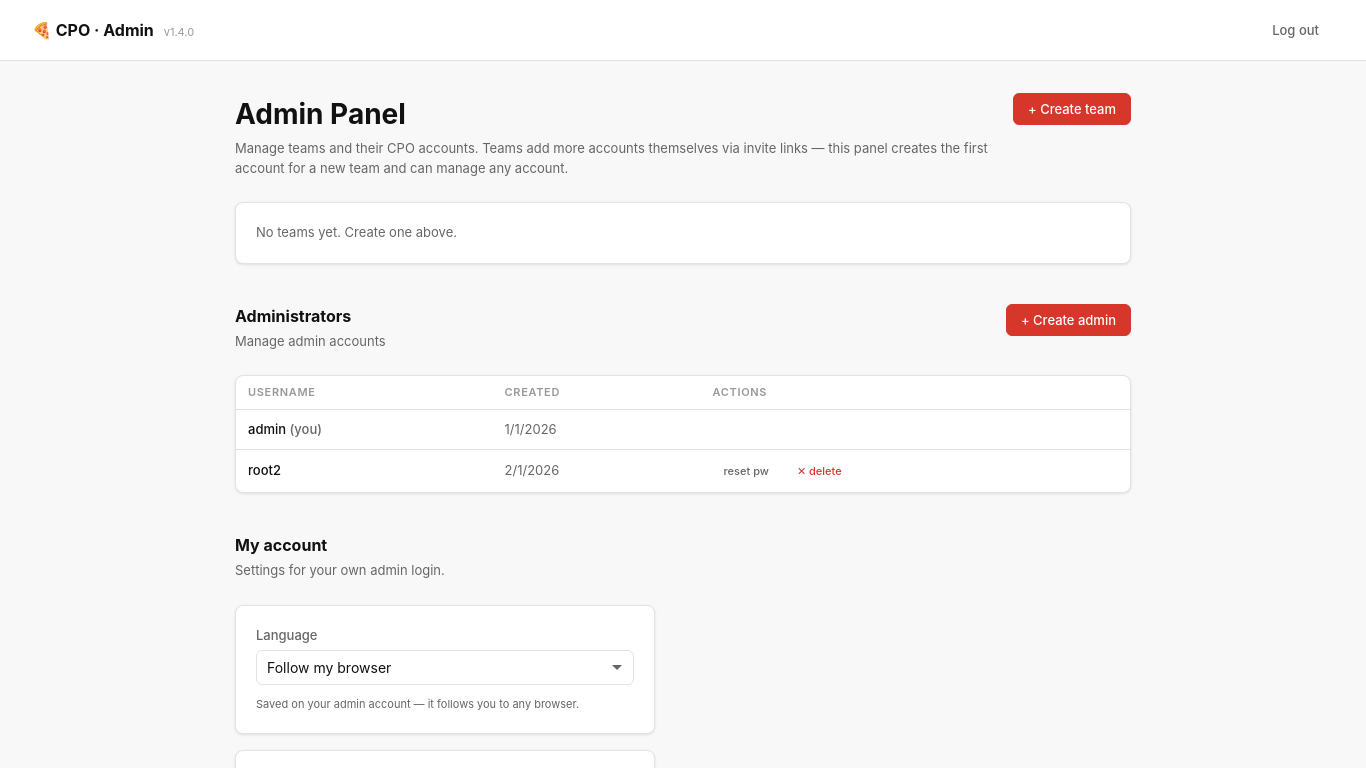
it: AdminPanel › creating a team › shows create form when "+ Create team" button is clicked
Click the button "+ Create team" at (1072,109), box [1013, 93, 1131, 125]
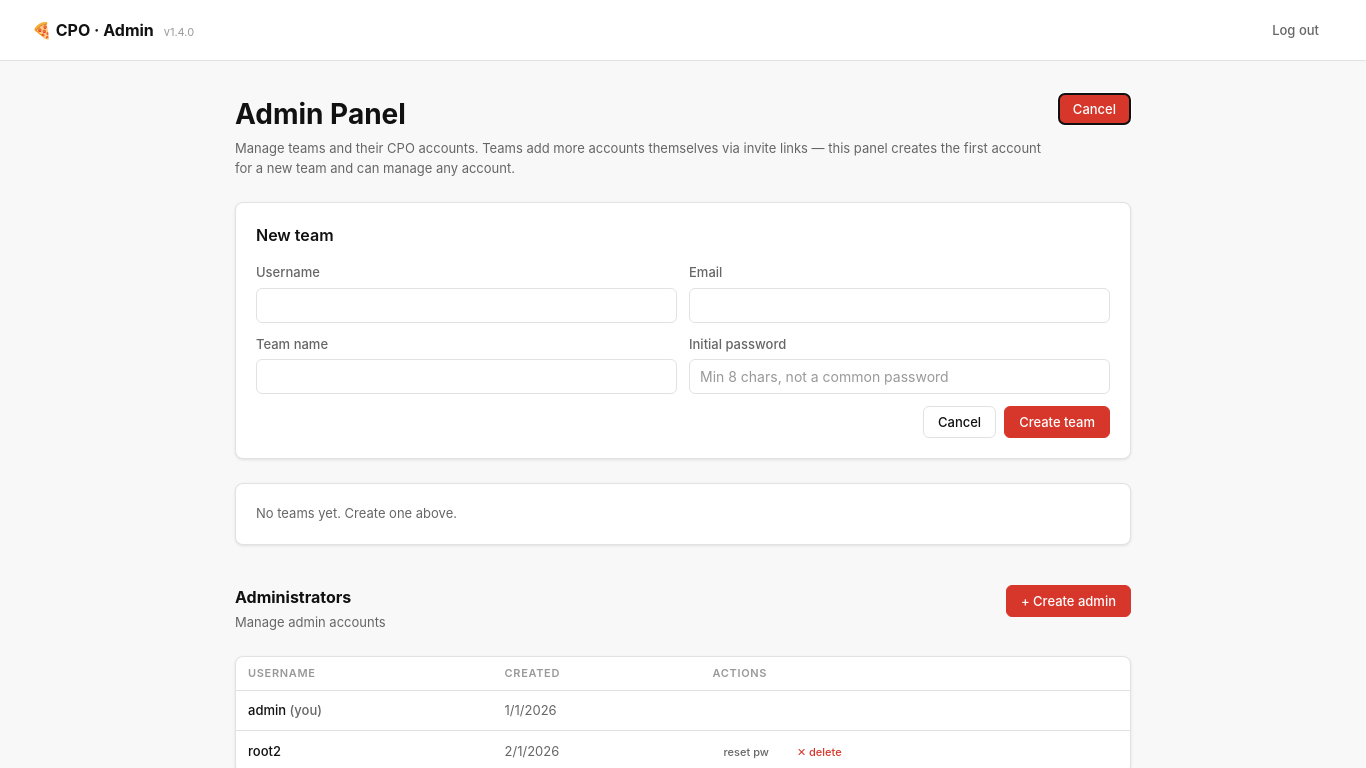
Result: the field labelled "Username" is shown at [256, 288, 677, 322]
Result: the field labelled "Email" is shown at [689, 288, 1110, 322]
Result: the field labelled "Team name" is shown at [256, 359, 677, 394]
